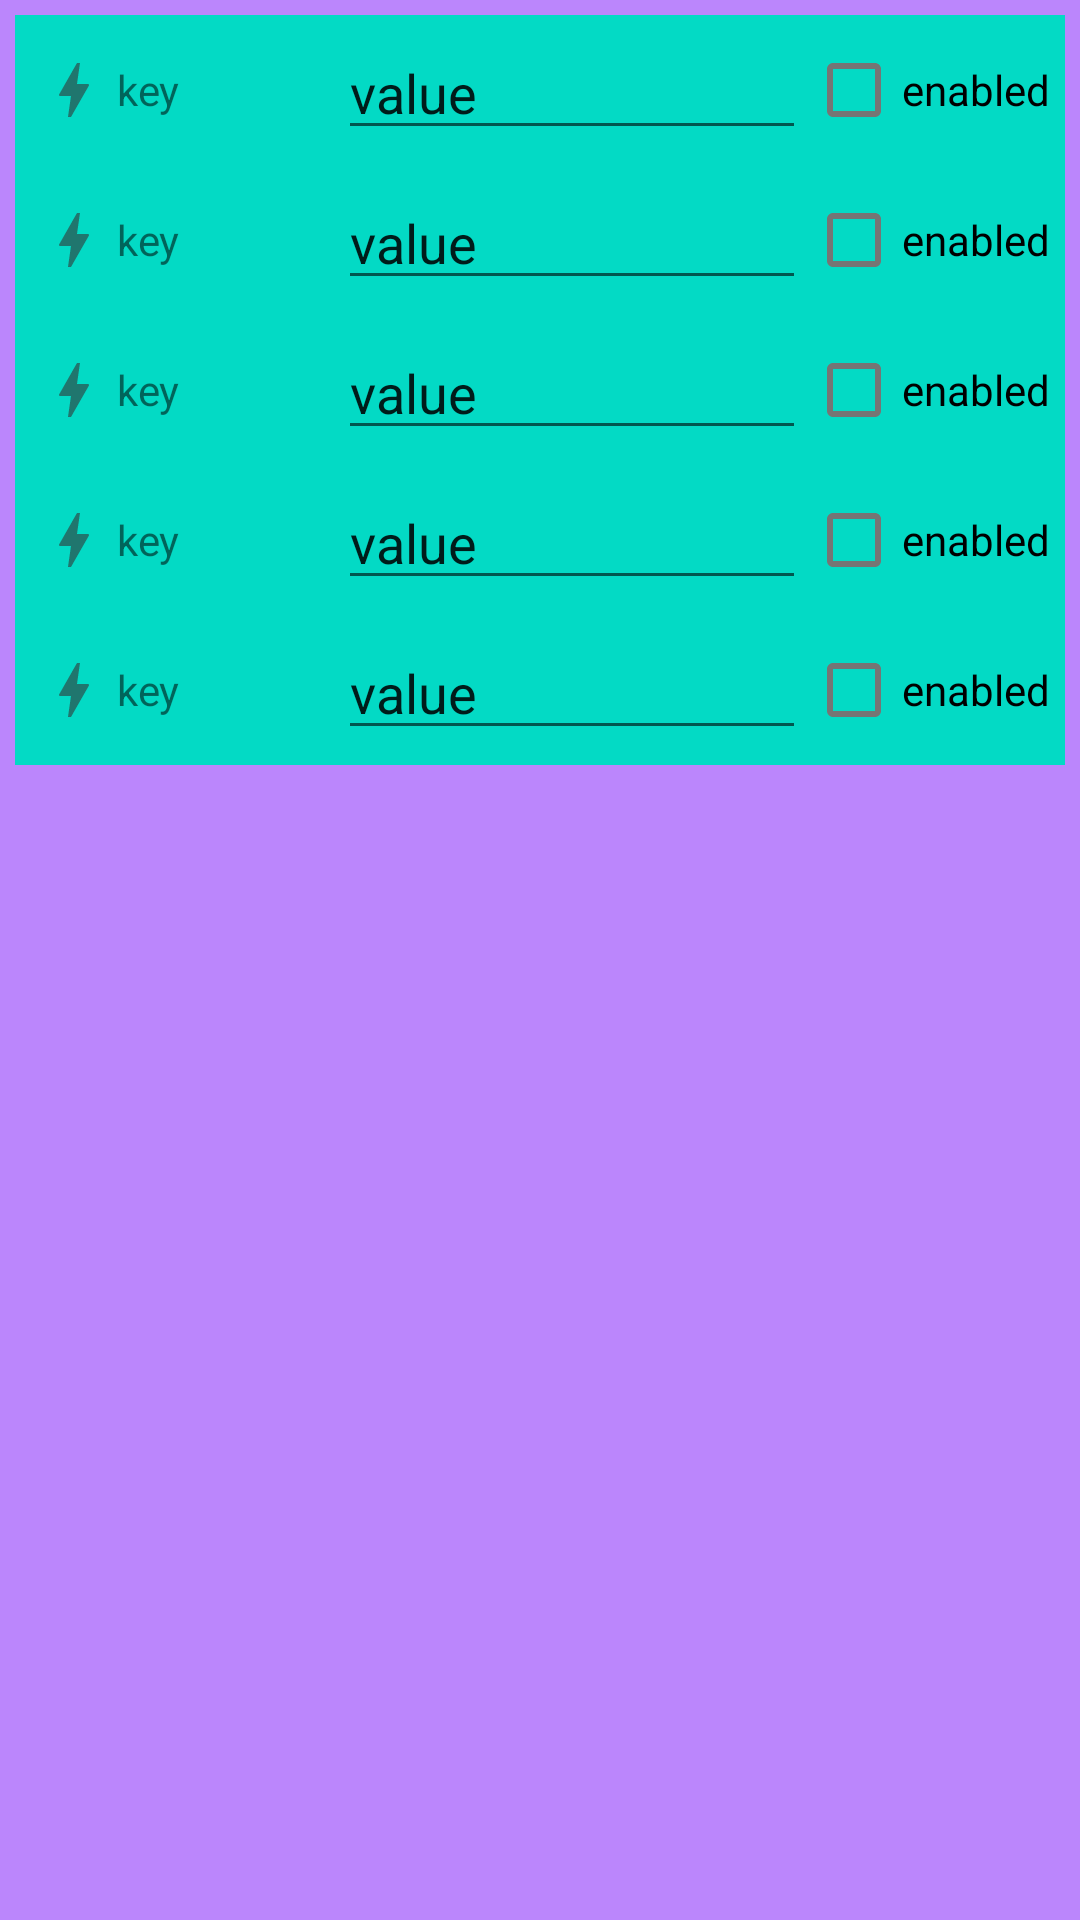

Screen size 1080 x 1920. Icon name, then its center in pixels as (x,y):
trigger: (74,90), (74,240), (74,390), (74,540), (74,690)
